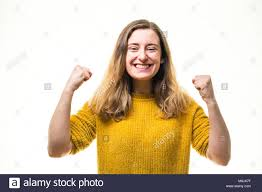white_female: (124, 16, 178, 89)
